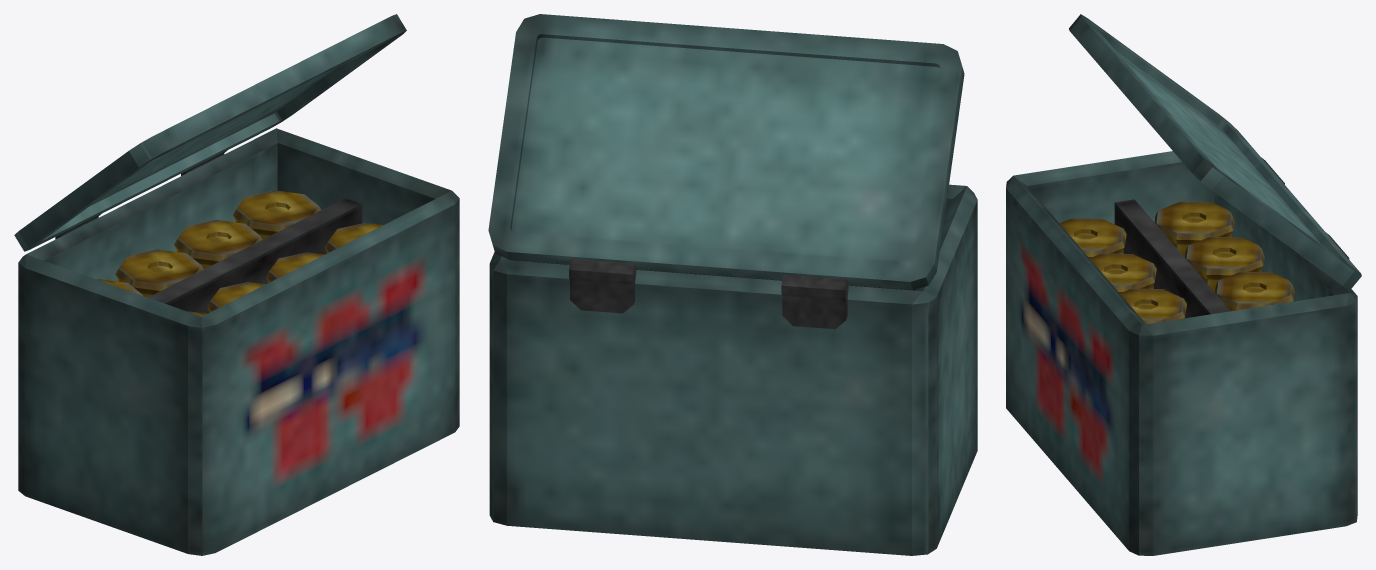
3 renders of one model, left to right at view 1: azimuth 30°, elevation 25°; view 2: azimuth 150°, elevation 25°; view 3: azimuth 270°, elevation 25°, orthographic. The views are drawn at different scales.
Visible parts, largest first — view 1: shotgun_ammo_2; view 2: shotgun_ammo_2; view 3: shotgun_ammo_2.
Boxes of the visible parts, left/top/right/bottom form: shotgun_ammo_2: left=14, top=14, right=459, bottom=555; shotgun_ammo_2: left=488, top=14, right=977, bottom=555; shotgun_ammo_2: left=1006, top=14, right=1361, bottom=555.
Bounding box in the file's own units: 0.2125 × 0.1997 × 0.1694.
Materials: 1 (1 with a texture image).
